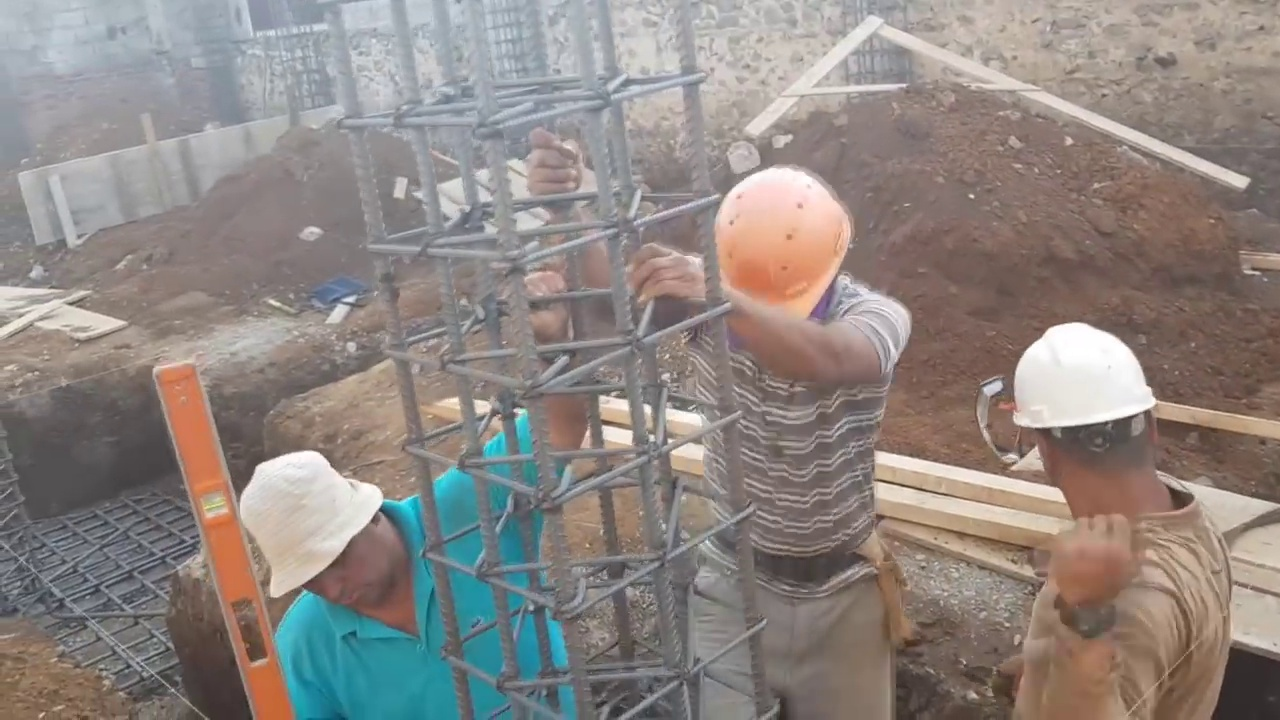helmet: (712, 167, 850, 329), (1016, 328, 1164, 449)
helmet-off: (230, 451, 389, 623)
helmet-on: (1014, 320, 1198, 533), (711, 159, 859, 338)
person: (526, 130, 916, 720), (226, 267, 583, 719), (972, 314, 1232, 720)
